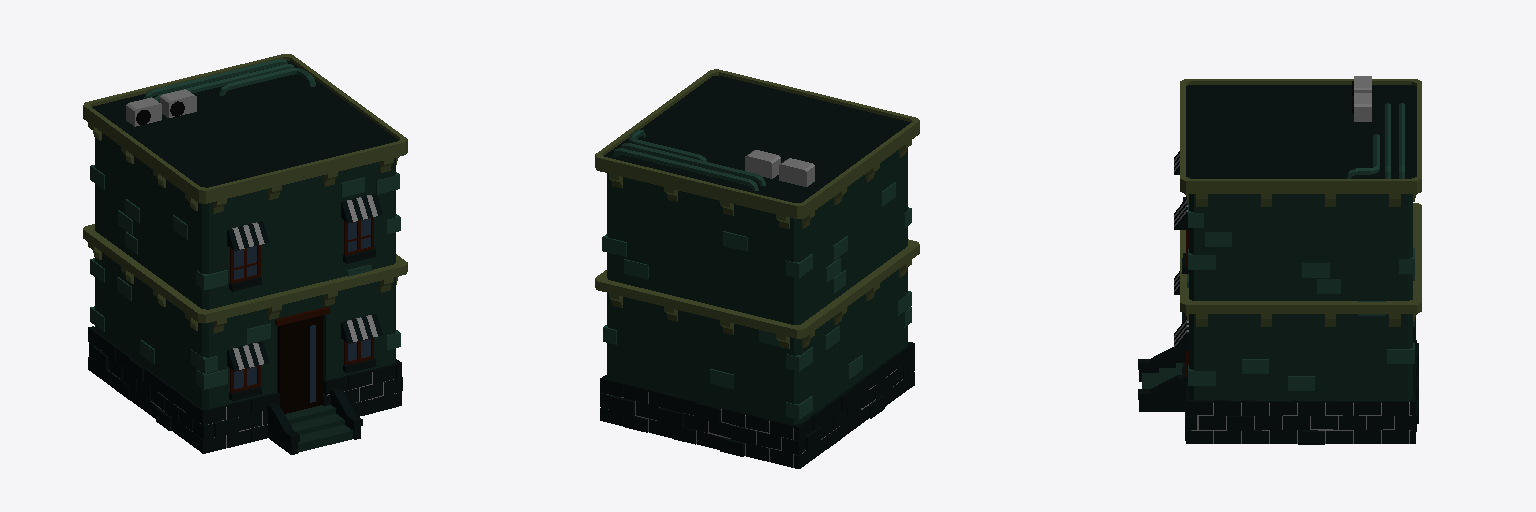
Rendered from 2Story_Mat.obj.
3 renders of one model, left to right at view 1: azimuth 30°, elevation 25°; view 2: azimuth 150°, elevation 25°; view 3: azimuth 270°, elevation 25°, orthographic.
Visible parts, largest first — view 1: 2Story_Mat_Cube.038; view 2: 2Story_Mat_Cube.038; view 3: 2Story_Mat_Cube.038.
Boxes of the visible parts, x1,y1,x2,y2 form: 2Story_Mat_Cube.038: [83, 54, 407, 454]; 2Story_Mat_Cube.038: [595, 69, 919, 468]; 2Story_Mat_Cube.038: [1138, 76, 1421, 444].
Size of the model in its own units: 2.16 by 2.75 by 2.53.